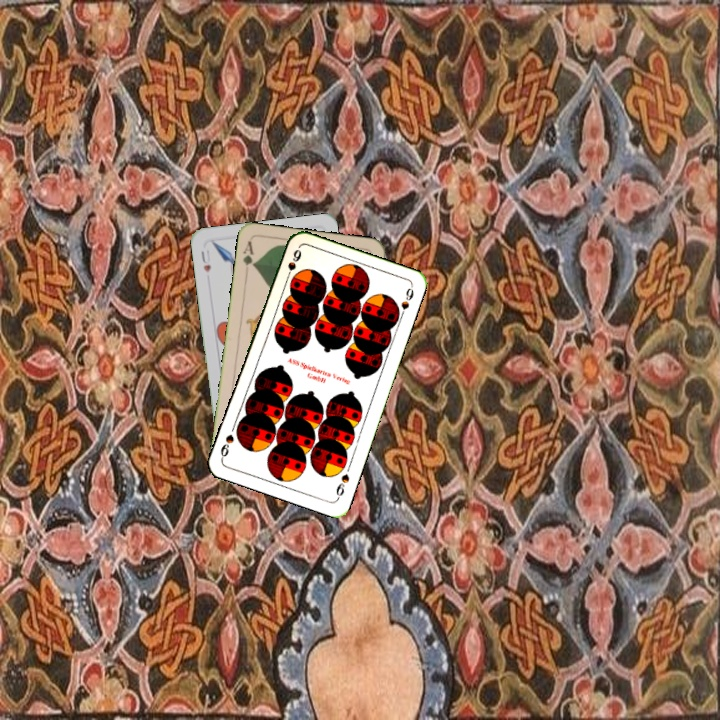GA: (239, 237, 258, 271)
HU: (197, 246, 213, 275)
S9: (281, 245, 304, 284), (332, 470, 352, 502)
